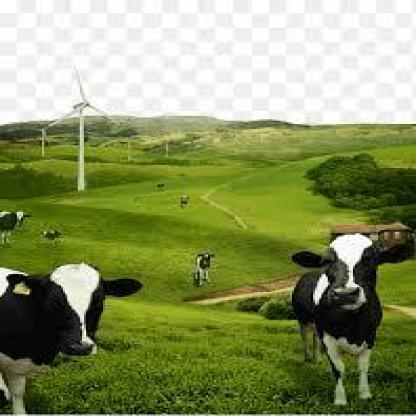cow: (0, 262, 147, 416), (292, 232, 414, 406), (0, 207, 34, 243), (189, 252, 216, 288)
